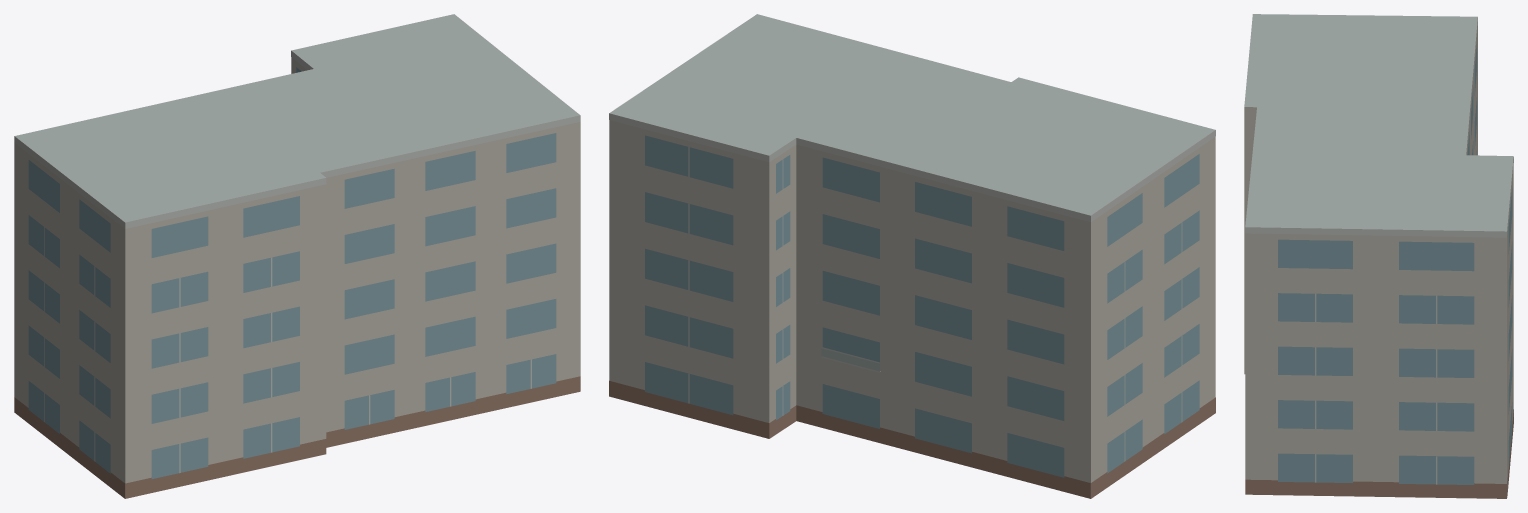
Rendered from survey-upis-32747289.glb.
3 renders of one model, left to right at view 1: azimuth 30°, elevation 25°; view 2: azimuth 150°, elevation 25°; view 3: azimuth 270°, elevation 25°, orthographic. The views are drawn at different scales.
Parts seen in each view (by area): view 1: survey-upis-32747289.tmp; view 2: survey-upis-32747289.tmp; view 3: survey-upis-32747289.tmp.
Part boxes in pixels (x1,y1,x2,y2): survey-upis-32747289.tmp: (14,14,580,498); survey-upis-32747289.tmp: (609,14,1215,498); survey-upis-32747289.tmp: (1244,14,1513,498).
Size of the model in its own units: 18.33 by 10.5 by 9.6.
